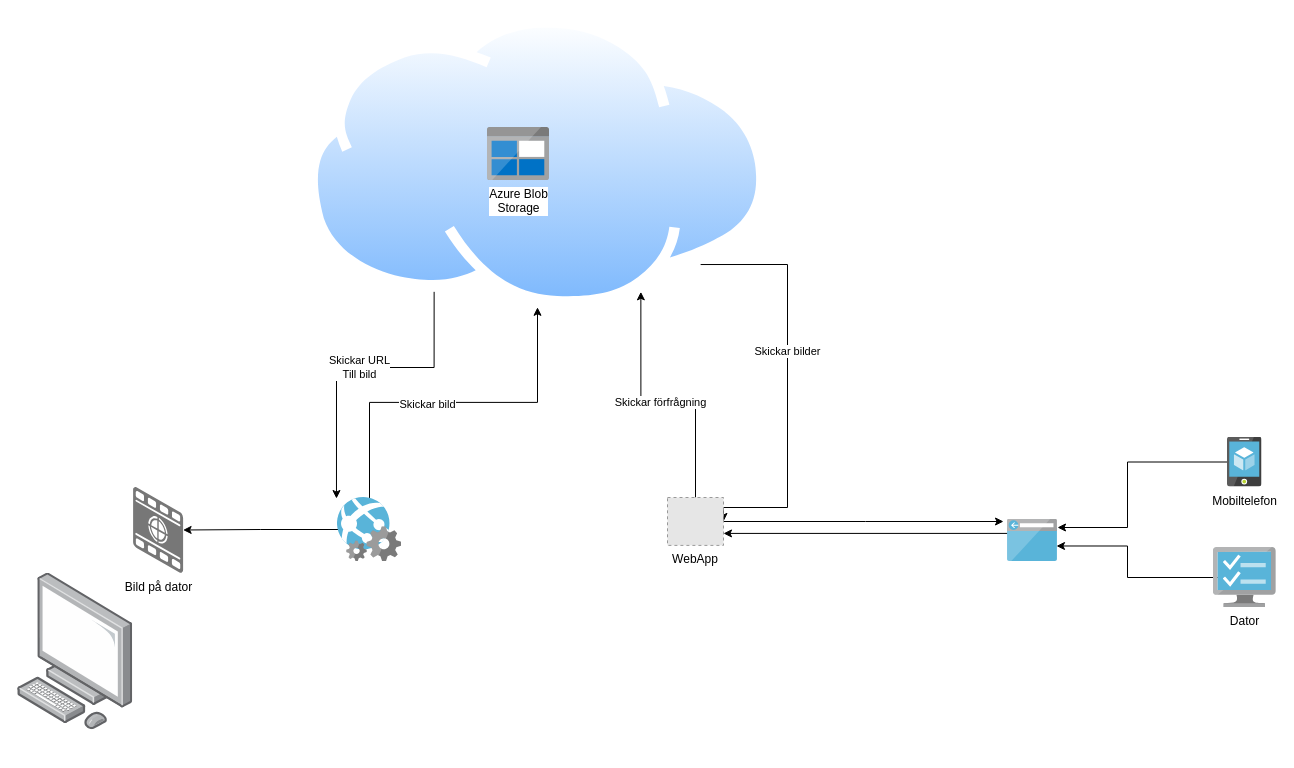
The diagram is 1294 pixels wide and 768 high, and some of its shapes have lost their labels. Grey dashed boxes stand in for pictures. Each missing label, with the centre of its shape:
"KonsollApplikation" goes at (369,529).
"Min dator" goes at (75,650).
"Webbläsare" goes at (1032,539).
